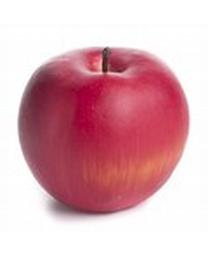apple: (16, 45, 189, 213)
